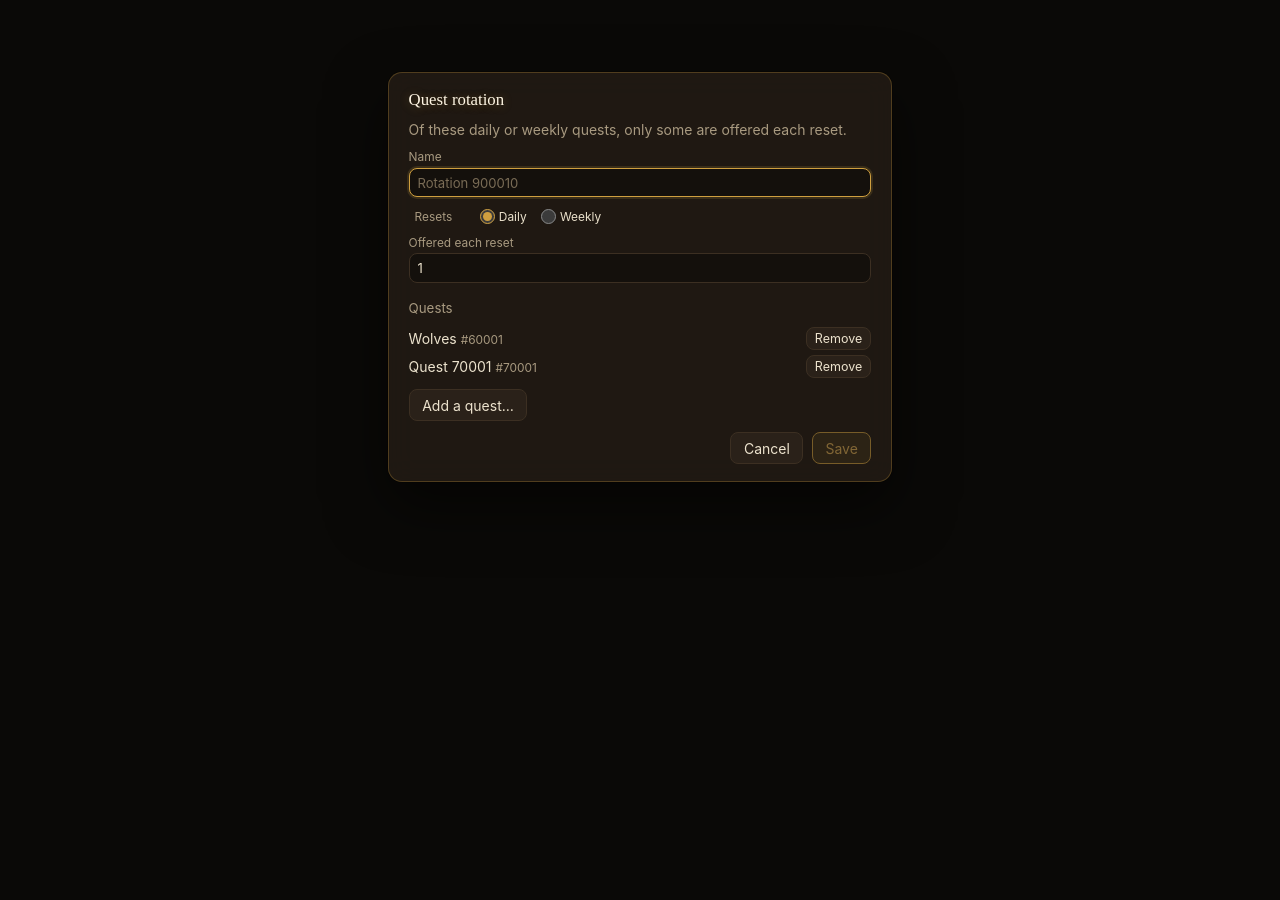
Test: the rotation dialog › offers no Make button for a quest only the database has, and its reason still blocks saving
Click the radio button labelled "Weekly" at (548, 216), box x1=541 y1=209 x2=556 y2=224
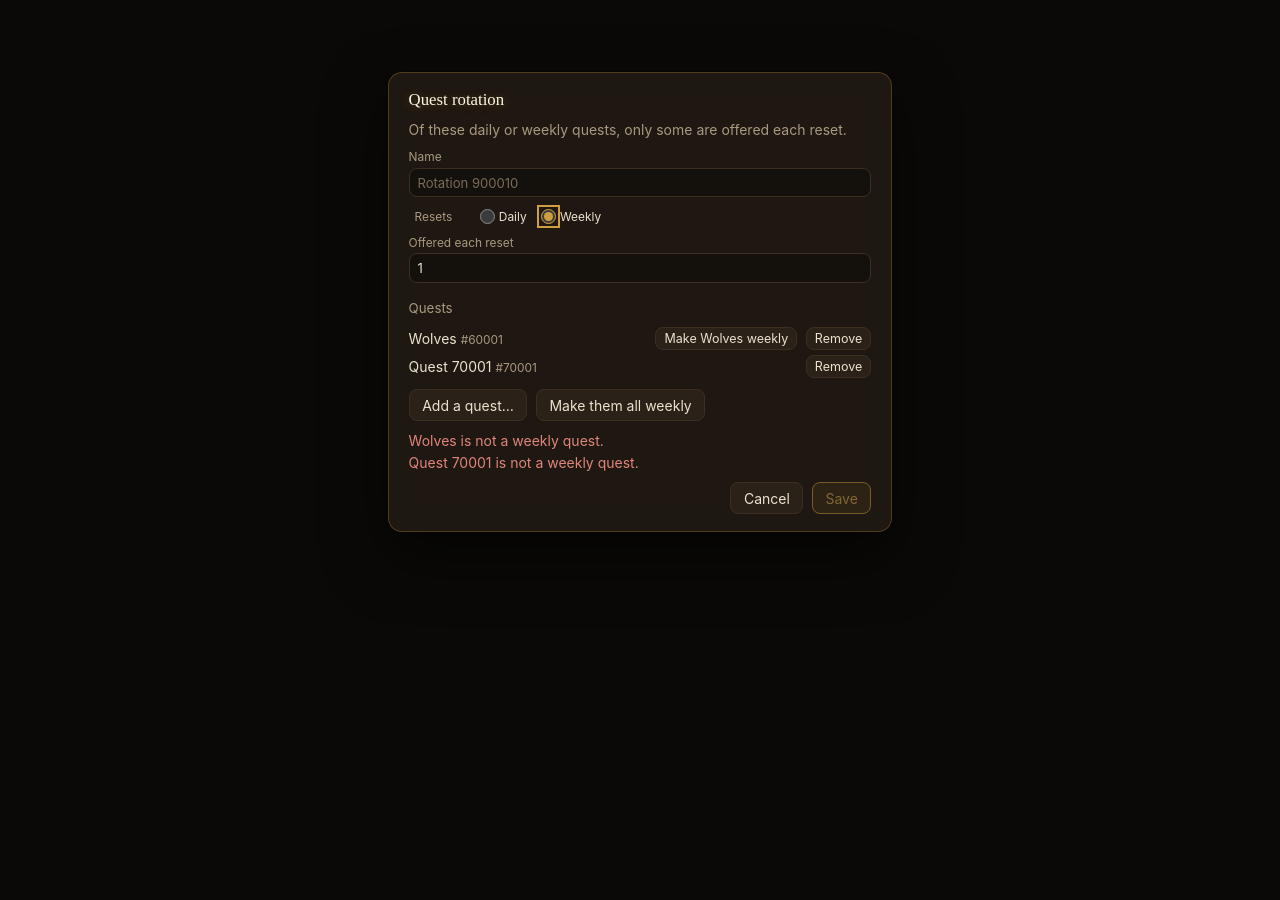
Result: the button "Make Wolves weekly" is shown
Click the button "Make Wolves weekly" at (726, 339), box x1=655 y1=327 x2=797 y2=350
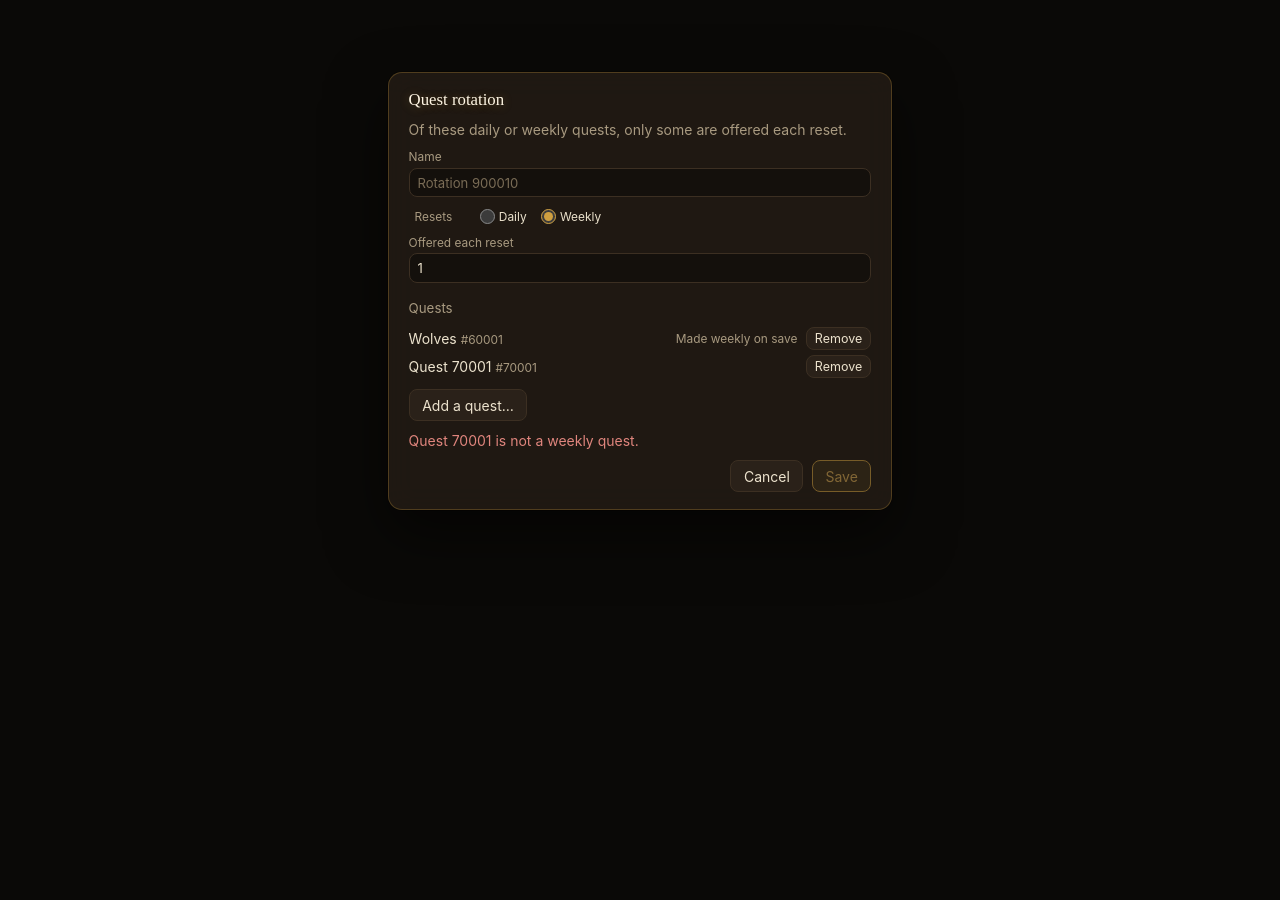
Expected: the button "Save" is disabled, x1=812 y1=460 x2=871 y2=492
Result: the text "Quest 70001 is not a weekly quest." is shown at x1=409 y1=432 x2=639 y2=449
Result: the button "Make them all weekly" is gone
